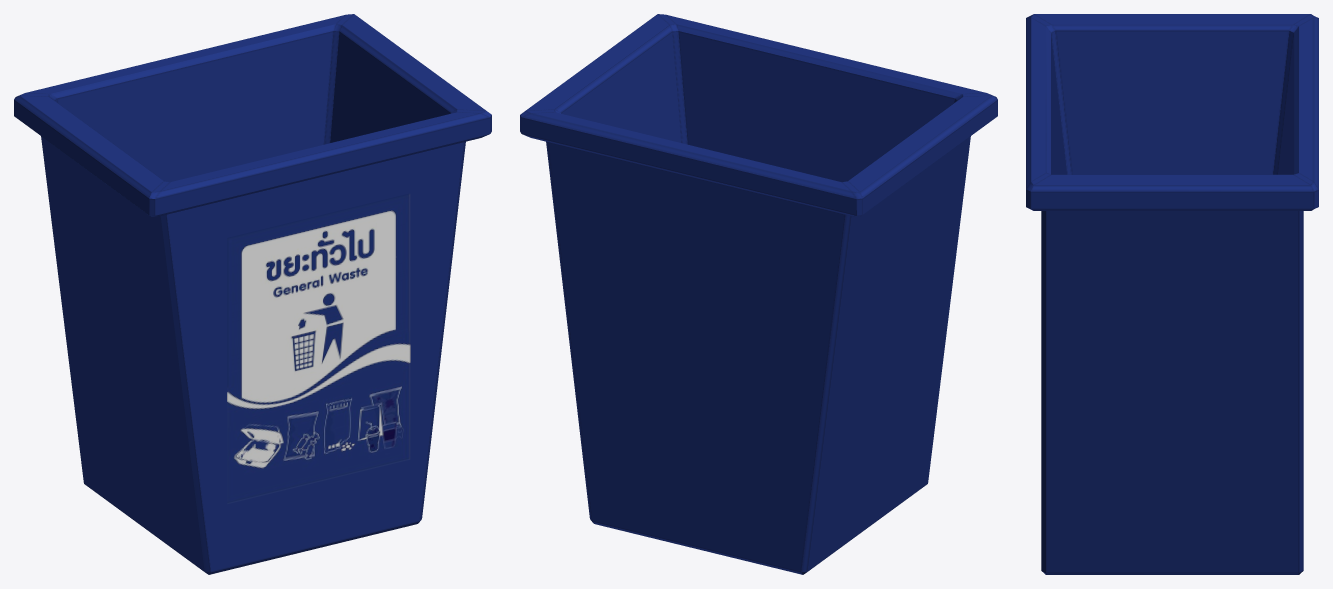
The model's file is Rubbish_Bin.fbx.
3 views of the same model, side by side, from view 1: azimuth 30°, elevation 25°; view 2: azimuth 150°, elevation 25°; view 3: azimuth 270°, elevation 25° (orthographic). The views are drawn at different scales.
Visible parts, largest first — view 1: pCube1; view 2: pCube1; view 3: pCube1.
Boxes of the visible parts, box(x1,y1,x2,y2) form: pCube1: box(14, 14, 491, 574); pCube1: box(520, 14, 997, 574); pCube1: box(1026, 14, 1318, 574).
Bounding box in the file's own units: 2.38 × 2.66 × 1.67.
